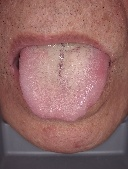tongue: (18, 49, 107, 123)
